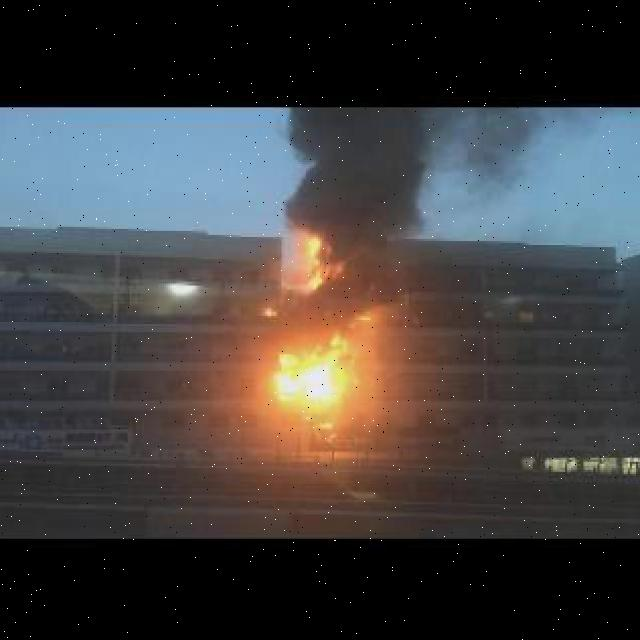fire: (272, 337, 361, 428), (308, 231, 332, 285), (260, 304, 278, 314), (358, 310, 368, 320)
smoke: (278, 105, 580, 229)
